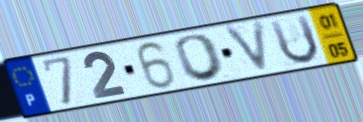2: (82, 49, 130, 102)
6: (135, 39, 178, 91)
7: (39, 53, 77, 107)
O: (173, 32, 229, 84)
U: (267, 12, 322, 67)
V: (220, 17, 273, 77)
